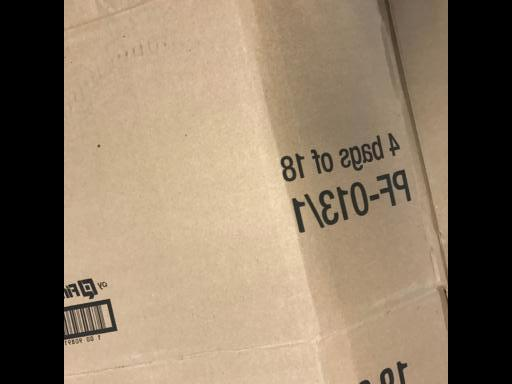cardboard: (72, 4, 445, 383)
